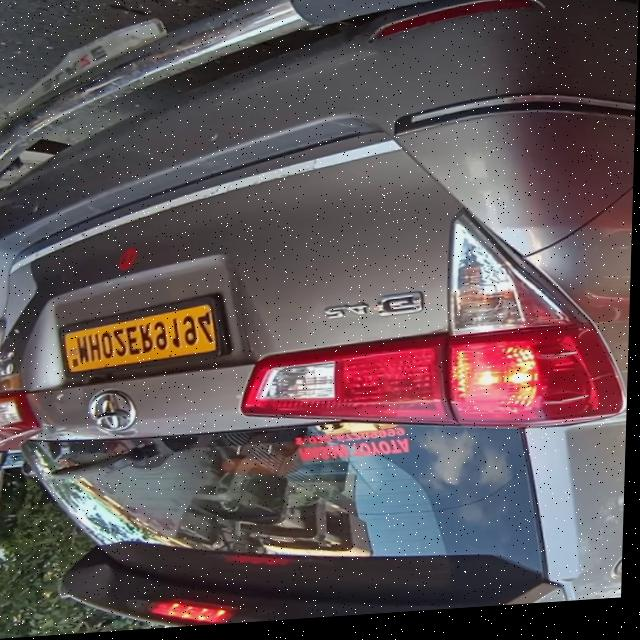plate: (58, 298, 228, 380)
